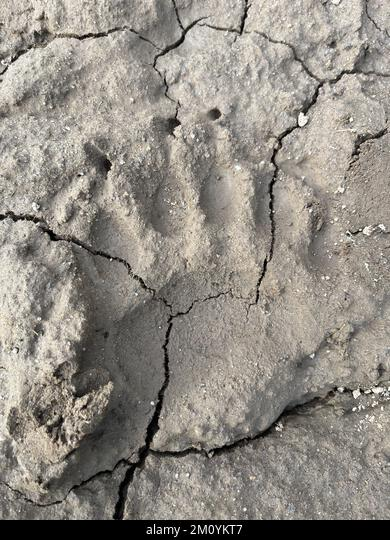bear: (66, 105, 330, 430)
